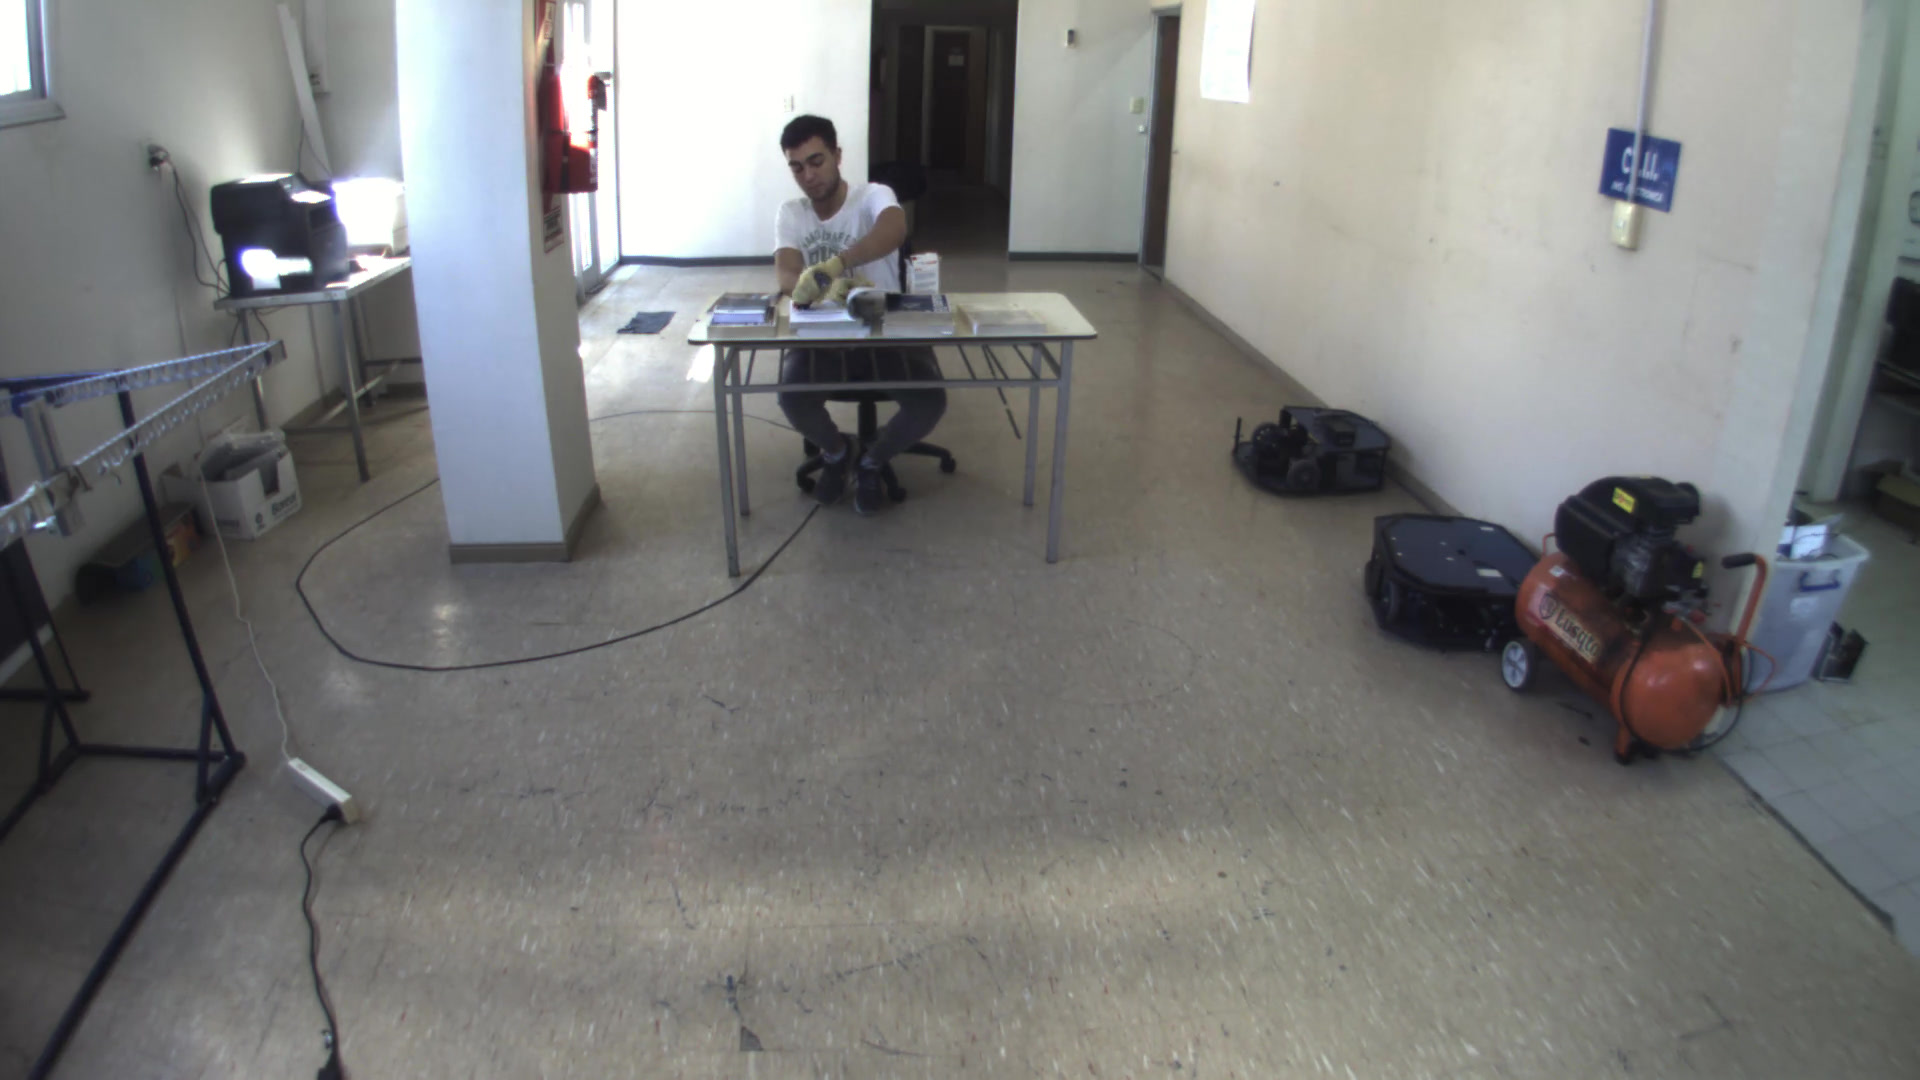hand: (785, 255, 852, 313)
